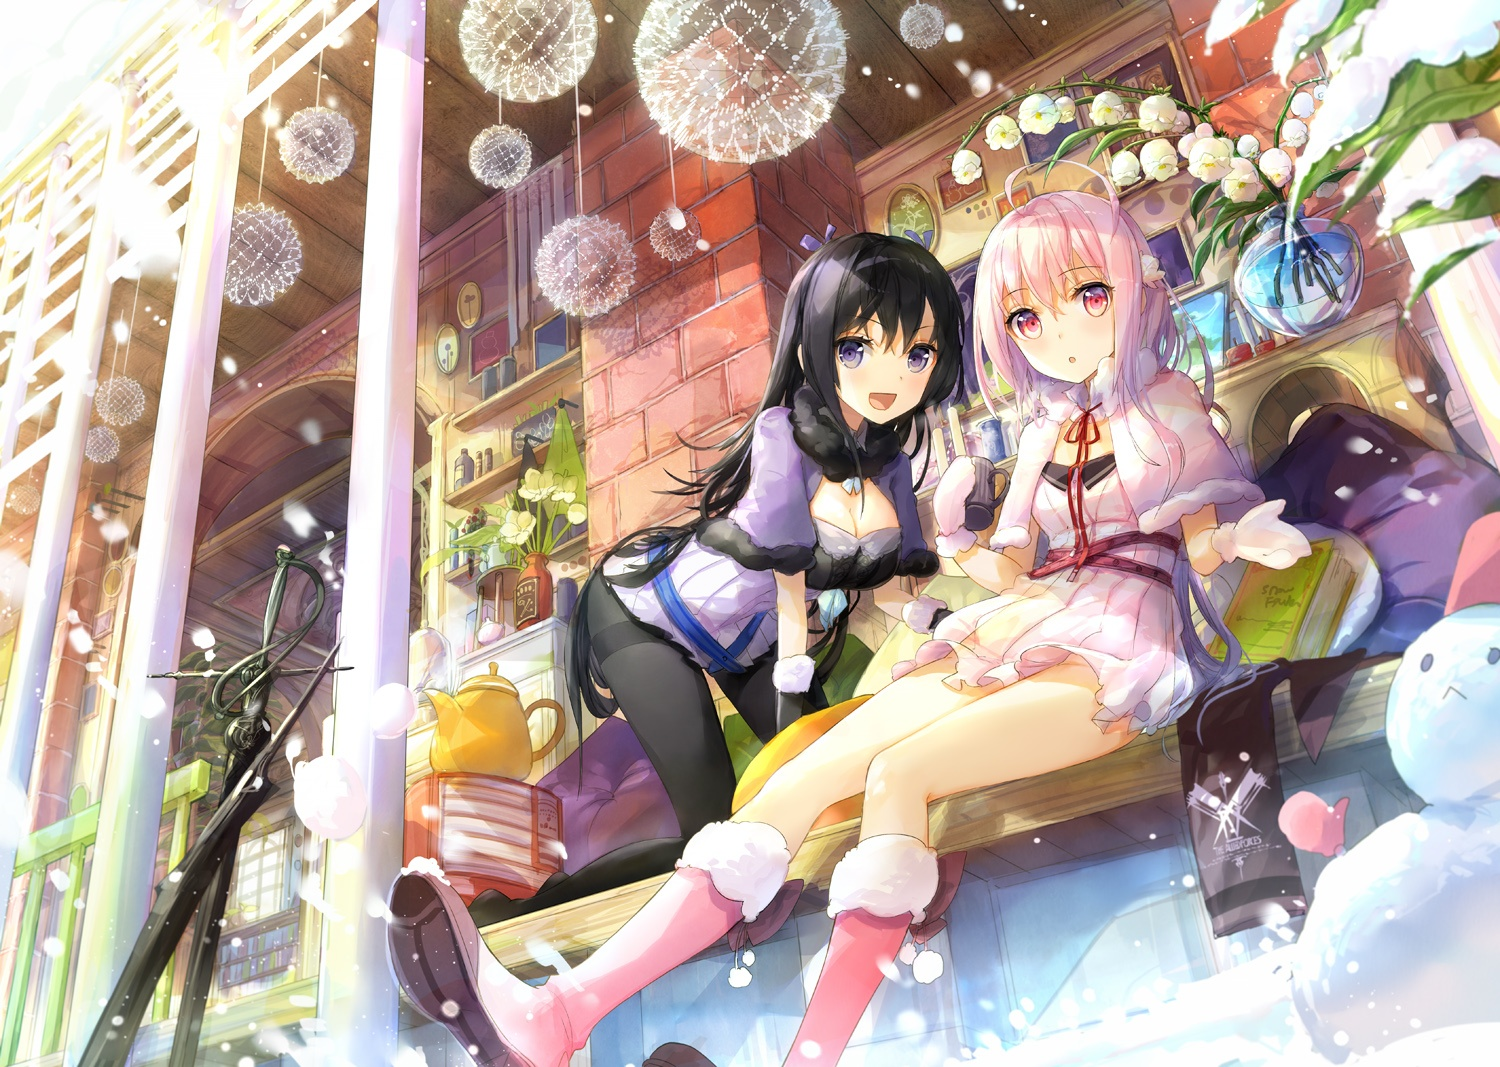纸片人正脸: (766, 222, 974, 435), (965, 186, 1172, 398)
